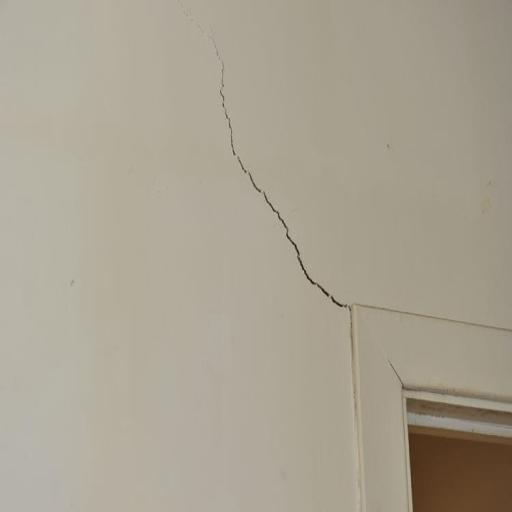spalling: (207, 25, 349, 315)
